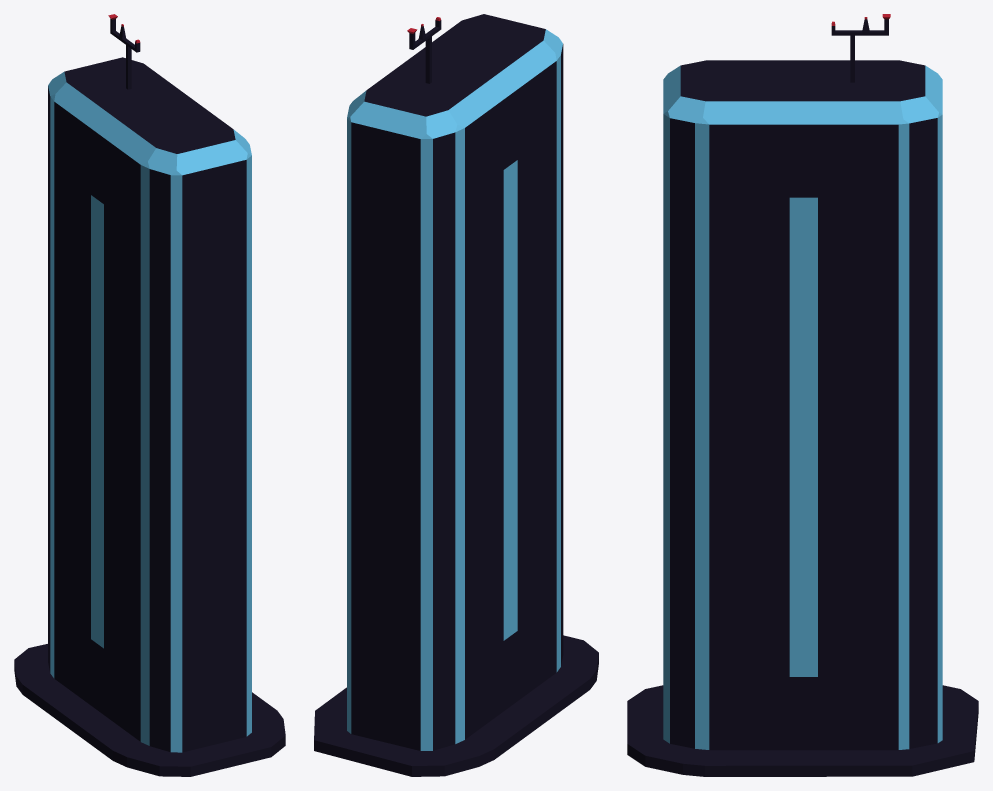
The model's file is House1.fbx.
3 views of the same model, side by side, from view 1: azimuth 30°, elevation 25°; view 2: azimuth 150°, elevation 25°; view 3: azimuth 270°, elevation 25° (orthographic). The views are drawn at different scales.
Visible parts, largest first — view 1: House1; view 2: House1; view 3: House1.
Boxes of the visible parts, <box> form: House1: <box>14,14,285,776</box>; House1: <box>314,14,598,776</box>; House1: <box>627,14,978,776</box>.
Size of the model in its own units: 283 by 1092 by 484.
